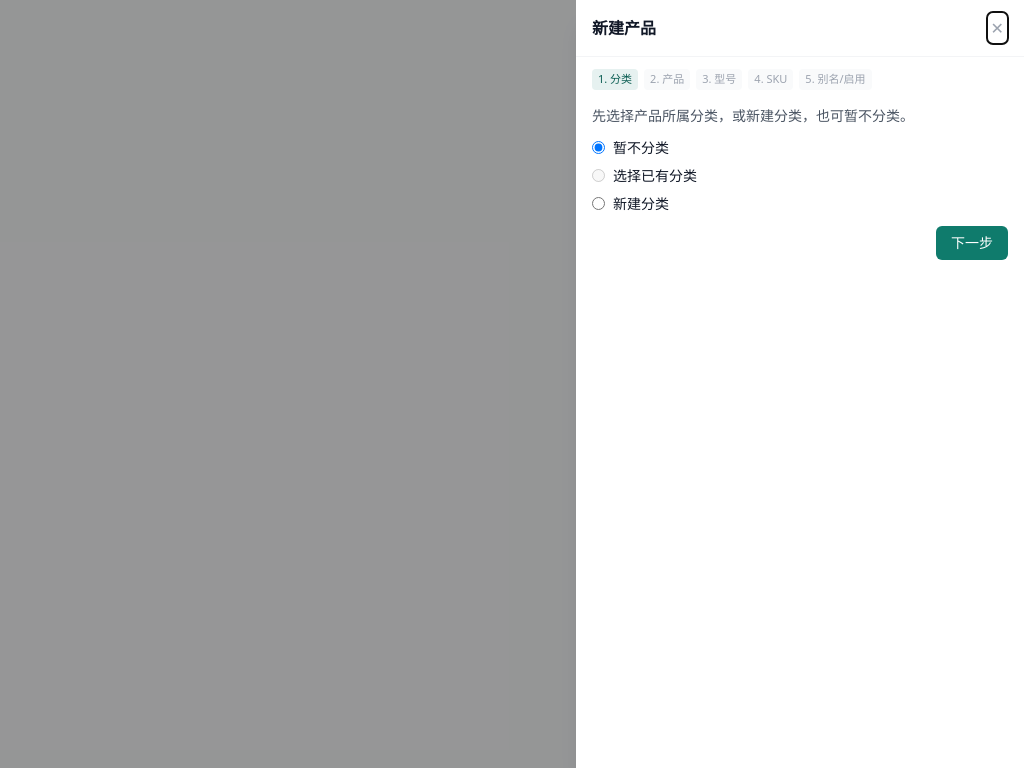
Test case: CreateWizard › 暂不分类时「保存并启用」禁用（启用须先归属分类）
The image size is (1024, 768).
Click the button with test id "wizard-next-category": (972,242) [936,226,1008,260]
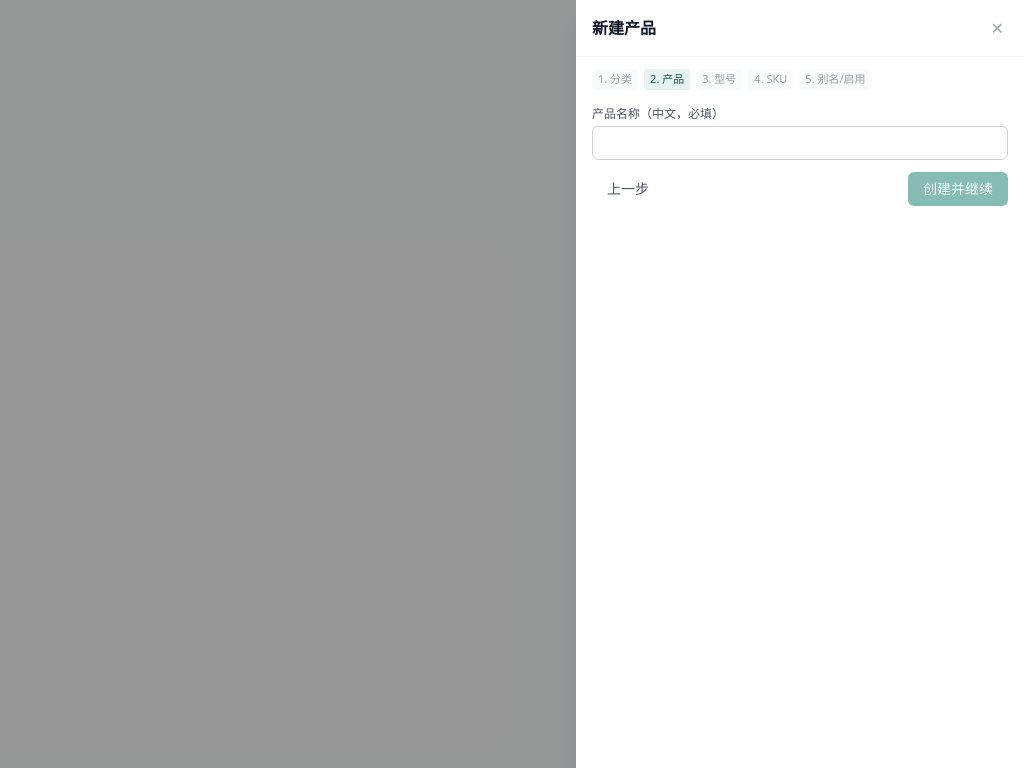
In the field with test id "wizard-family-name": (800,142) [592,126,1008,160], type "产品D"
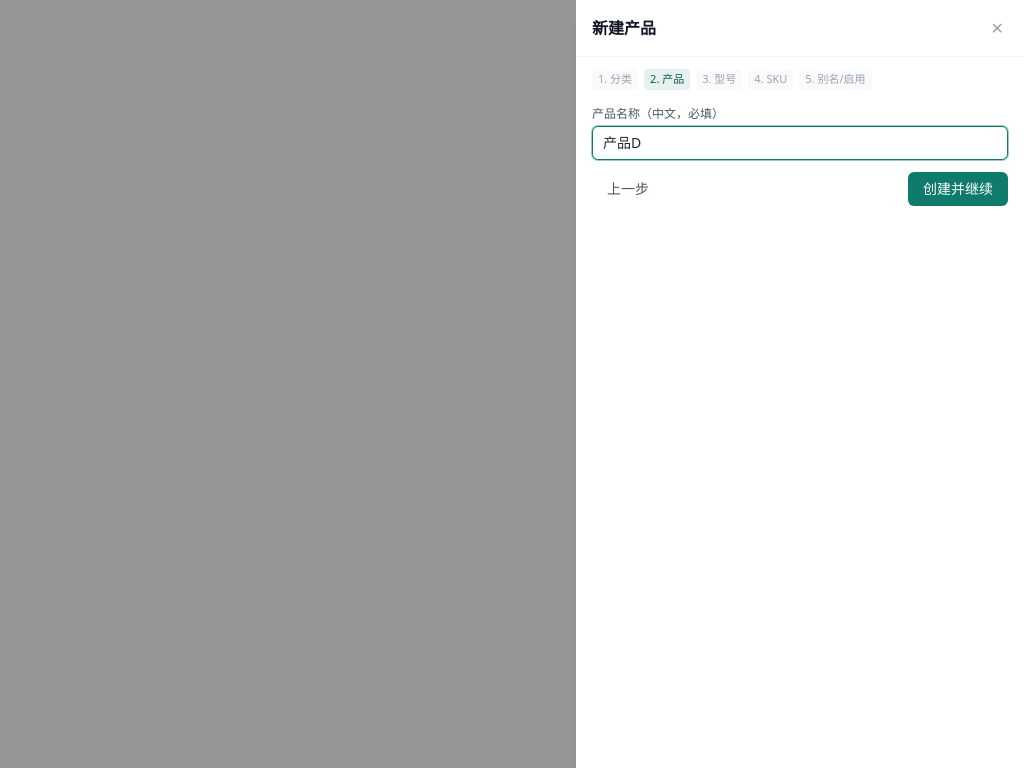
Click the button with test id "wizard-next-family": (958,188) [908,172,1008,206]
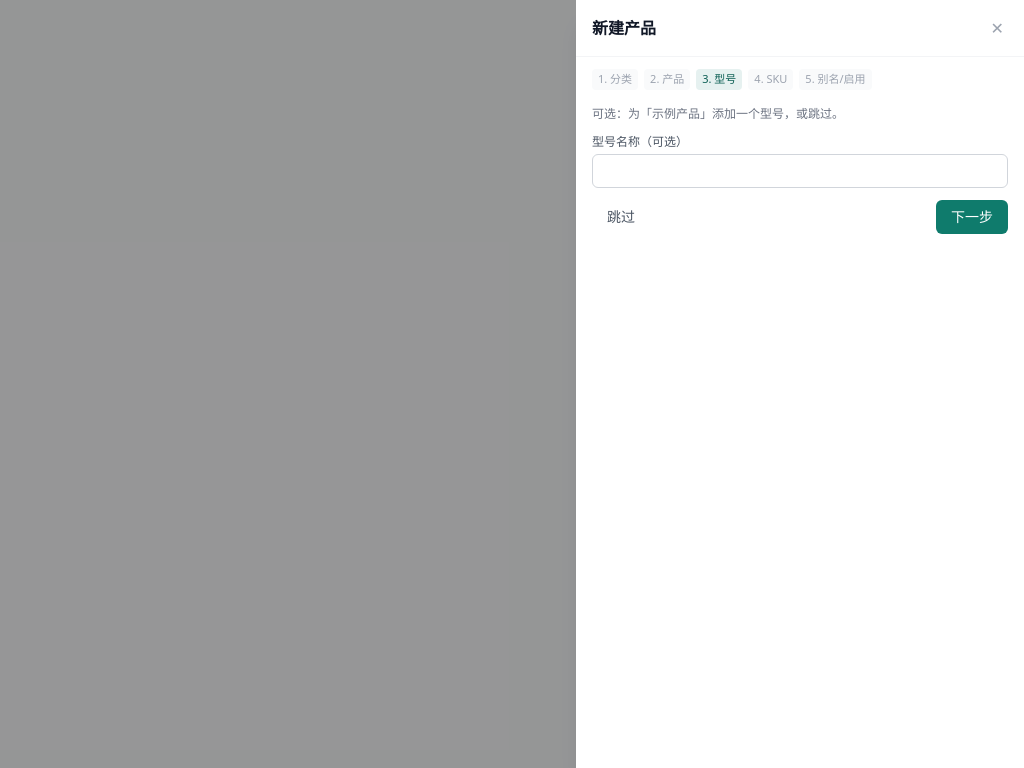
Click the button with test id "wizard-skip-variant": (621,216) [592,200,650,234]
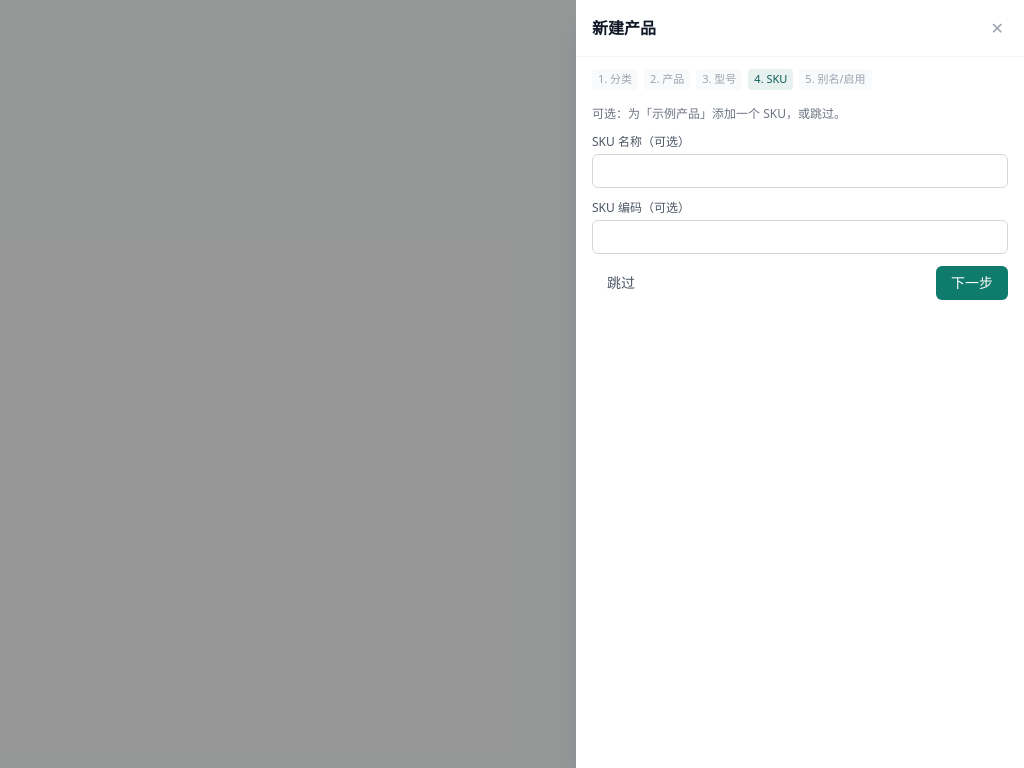
Click the button with test id "wizard-skip-sku": (621,282) [592,266,650,300]
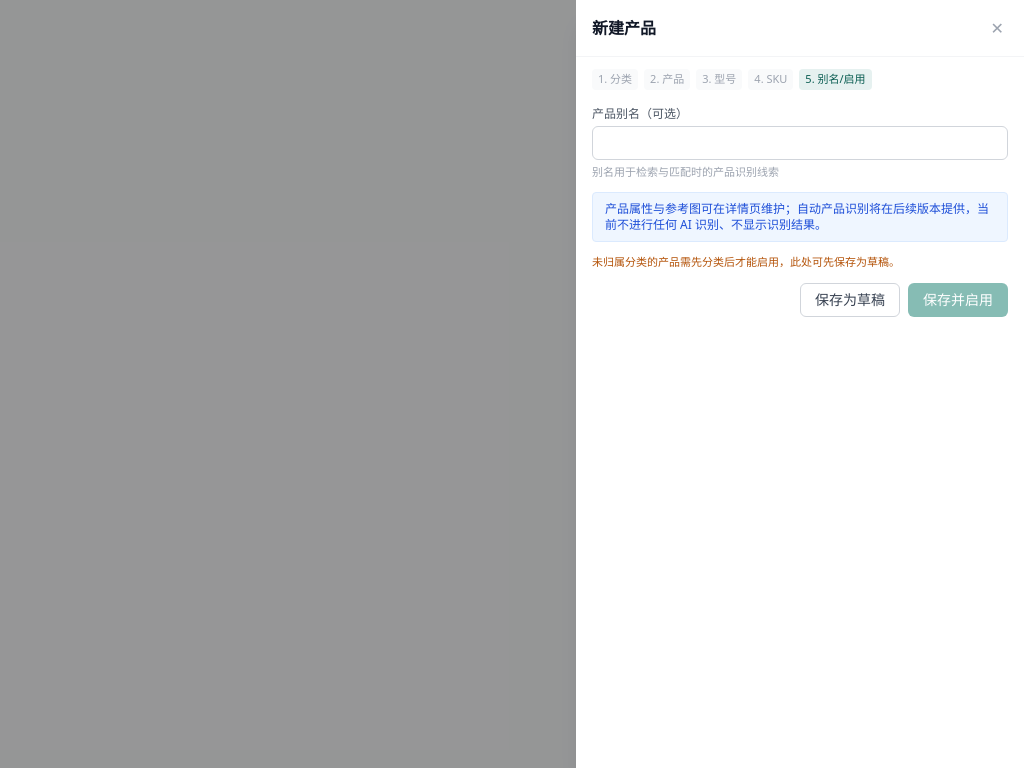
Expected: the button with test id "wizard-save-active" is disabled, [908,282,1008,316]
Expected: the text "未归属分类的产品需先分类后才能启用，此处可先保存为草稿。" is shown, [592,254,900,269]
